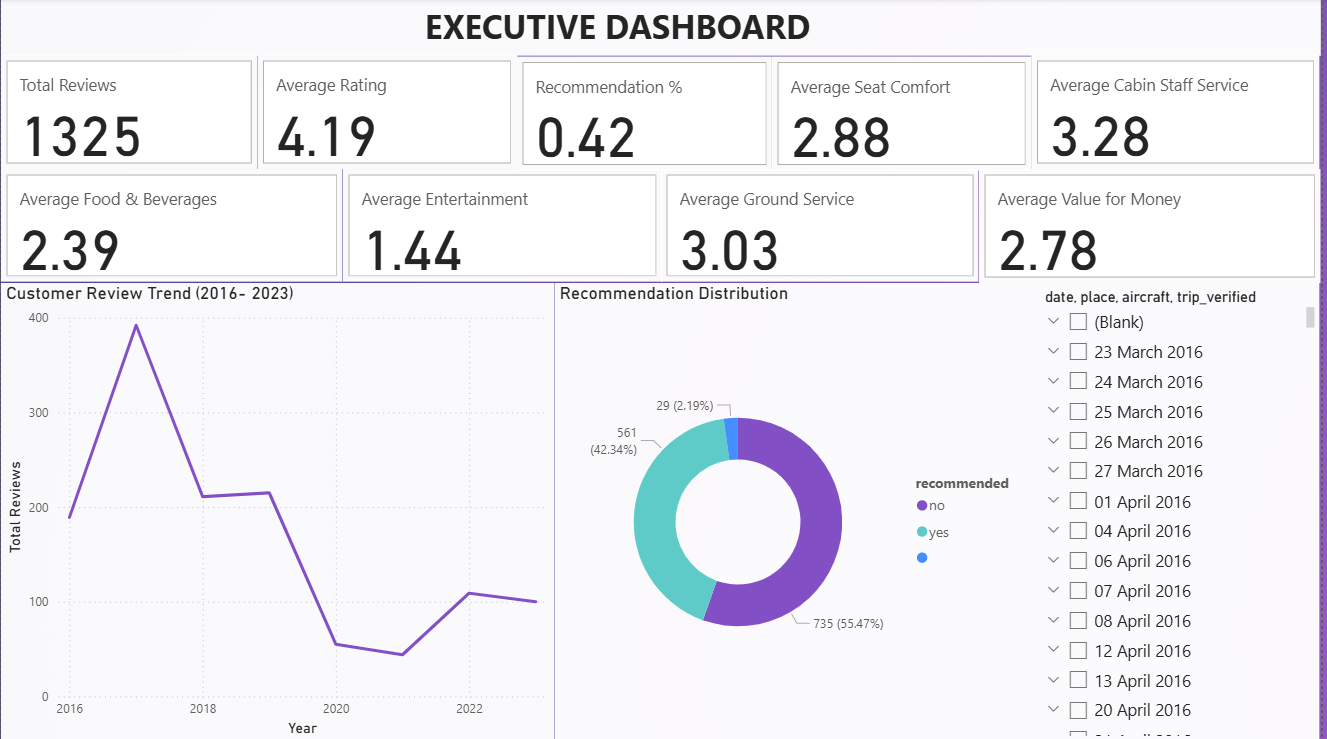

The dashboard page shown, as its layout file describes it:
{"tool":"powerbi","page":{"name":"Page 1","canvas":[1280,720],"ordinal":0},"visuals":[{"type":"cardVisual","fields":{"Data":["Countries.Total Reviews"]},"box":[0,55.3,248.7,110.6],"z":0},{"type":"cardVisual","fields":{"Data":["Countries.Average Food & Beverages"]},"box":[0,165.6,331.3,109.3],"z":1},{"type":"cardVisual","fields":{"Data":["Countries.Average Entertainment"]},"box":[331.3,165.6,309.8,109.3],"z":2},{"type":"cardVisual","fields":{"Data":["Countries.Average Rating"]},"box":[248.7,55.3,252,110.6],"z":3},{"type":"cardVisual","fields":{"Data":["Countries.Average Cabin Staff Service"]},"box":[999.8,55.3,279.6,110.6],"z":4},{"type":"cardVisual","fields":{"Data":["Countries.Average Value for Money"]},"box":[949.2,165.6,331.3,111],"z":5},{"type":"cardVisual","fields":{"Data":["Countries.Recommendation %"]},"box":[500.7,56.9,247.1,110.6],"z":6},{"type":"cardVisual","fields":{"Data":["Countries.Average Seat Comfort"]},"box":[747.8,56.9,252,110.6],"z":7},{"type":"cardVisual","fields":{"Data":["Countries.Average Ground Service"]},"box":[641.1,165.6,308.1,109.3],"z":8},{"type":"textbox","box":[0,0,1280.5,56.3],"z":9},{"type":"lineChart","title":"Customer Review Trend (2016- 2023)","fields":{"Category":["DateTable.Date.Variation.Date Hierarchy.Year","DateTable.Date.Variation.Date Hierarchy.Quarter","DateTable.Date.Variation.Date Hierarchy.Month","DateTable.Date.Variation.Date Hierarchy.Day"],"Y":["Countries.Total Reviews"]},"box":[0,276.4,536.5,443.8],"z":10},{"type":"donutChart","title":"Recommendation Distribution","fields":{"Category":["ba_reviews.recommended"],"Y":["Countries.Total Reviews"]},"box":[536.5,276.4,463.3,443.8],"z":11},{"type":"slicer","fields":{"Values":["ba_reviews.date","ba_reviews.place","ba_reviews.aircraft","ba_reviews.trip_verified"]},"box":[999.8,276.4,279.6,443.8],"z":12}]}

Visuals, with their boxes in screenshot pixels (x1, y1, x2, y2), scaled from the page's 1280x720 canvas onto the 1327x739 screenshot:
cardVisual - Countries.Total Reviews: locate(0, 57, 258, 170)
cardVisual - Countries.Average Food & Beverages: locate(0, 170, 343, 282)
cardVisual - Countries.Average Entertainment: locate(343, 170, 665, 282)
cardVisual - Countries.Average Rating: locate(258, 57, 519, 170)
cardVisual - Countries.Average Cabin Staff Service: locate(1037, 57, 1326, 170)
cardVisual - Countries.Average Value for Money: locate(984, 170, 1326, 284)
cardVisual - Countries.Recommendation %: locate(519, 58, 775, 172)
cardVisual - Countries.Average Seat Comfort: locate(775, 58, 1037, 172)
cardVisual - Countries.Average Ground Service: locate(665, 170, 984, 282)
textbox: locate(0, 0, 1326, 58)
"Customer Review Trend (2016- 2023)" lineChart: locate(0, 284, 556, 738)
"Recommendation Distribution" donutChart: locate(556, 284, 1037, 738)
slicer - ba_reviews.date x ba_reviews.place: locate(1037, 284, 1326, 738)
